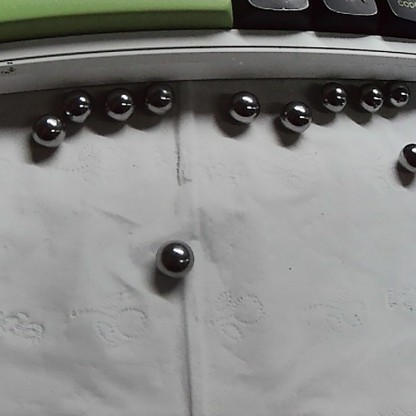ironball: (146, 235, 197, 278), (26, 113, 75, 150), (98, 86, 142, 124), (278, 92, 316, 135), (224, 87, 263, 126), (58, 86, 94, 127), (315, 81, 353, 117), (144, 84, 178, 115), (360, 81, 390, 115), (393, 136, 414, 175), (385, 78, 406, 105)
